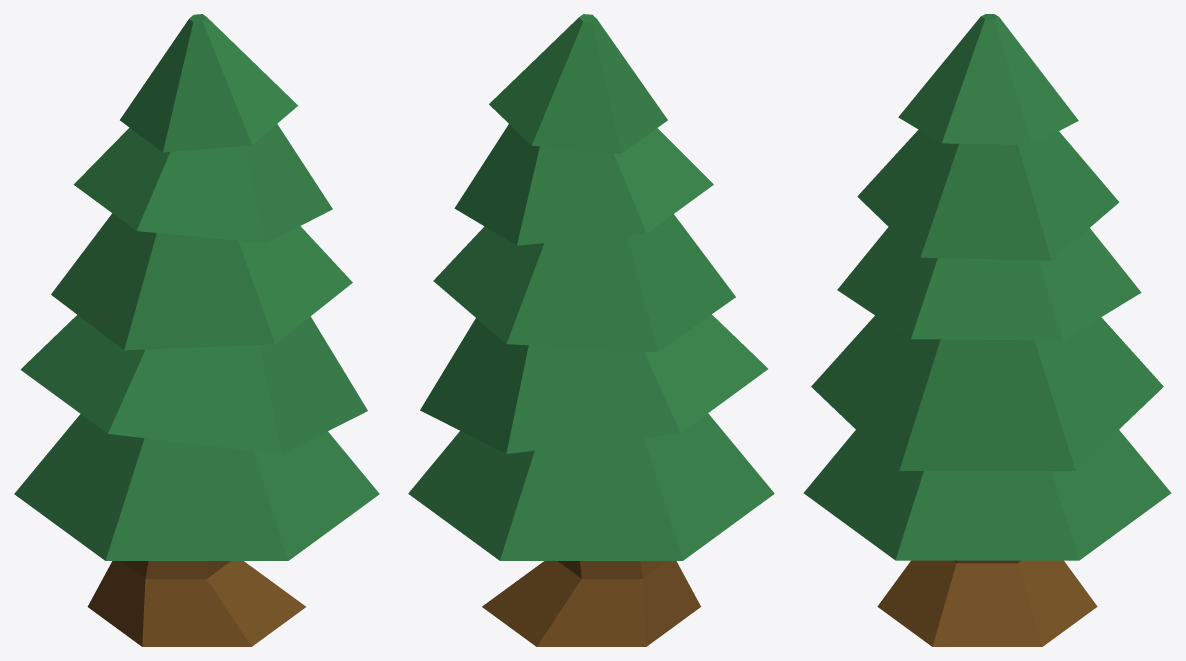
File: Tree4.fbx
3 views of the same model, side by side, from view 1: azimuth 30°, elevation 25°; view 2: azimuth 150°, elevation 25°; view 3: azimuth 270°, elevation 25° (orthographic).
Visible parts, largest first — view 1: Tree4; view 2: Tree4; view 3: Tree4.
Boxes of the visible parts, <box> form: Tree4: <box>14,14,379,646</box>; Tree4: <box>408,14,774,646</box>; Tree4: <box>803,14,1171,646</box>.
Size of the model in its own units: 289 by 593 by 334.
